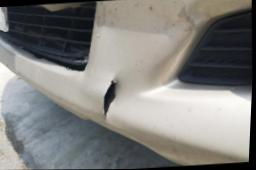Bumper: (0, 0, 206, 128)
